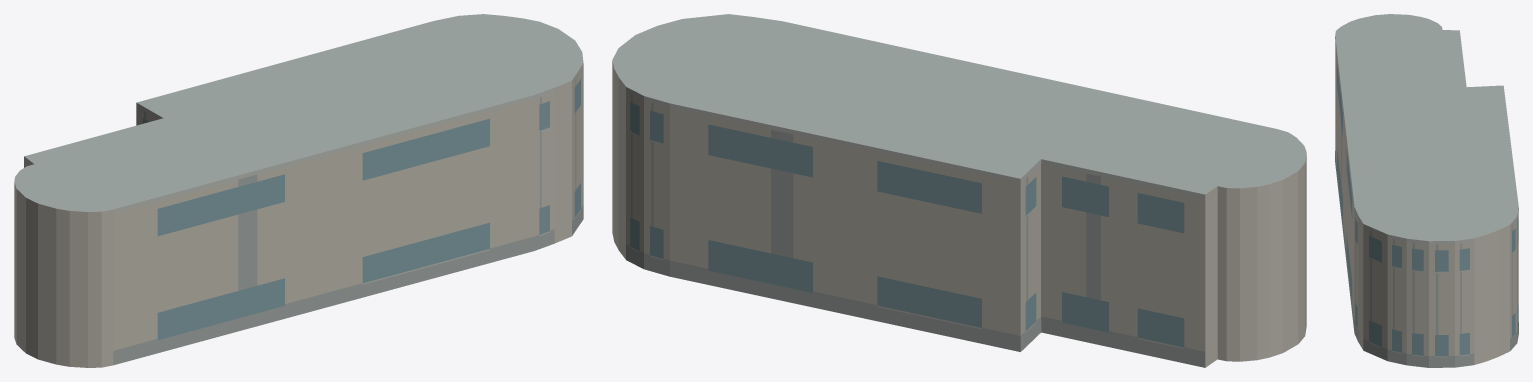
Rendered from survey-upis-33027998.glb.
The picture shows the model from 3 angles, left to right: view 1: azimuth 30°, elevation 25°; view 2: azimuth 150°, elevation 25°; view 3: azimuth 270°, elevation 25°; orthographic projection. The views are drawn at different scales.
Visible parts, largest first — view 1: survey-upis-33027998.tmp; view 2: survey-upis-33027998.tmp; view 3: survey-upis-33027998.tmp.
Part boxes in pixels (bbox=[...]): survey-upis-33027998.tmp: bbox=[14, 14, 583, 367]; survey-upis-33027998.tmp: bbox=[612, 14, 1306, 367]; survey-upis-33027998.tmp: bbox=[1335, 14, 1518, 367].
Size of the model in its own units: 35.19 by 9.15 by 12.03.
